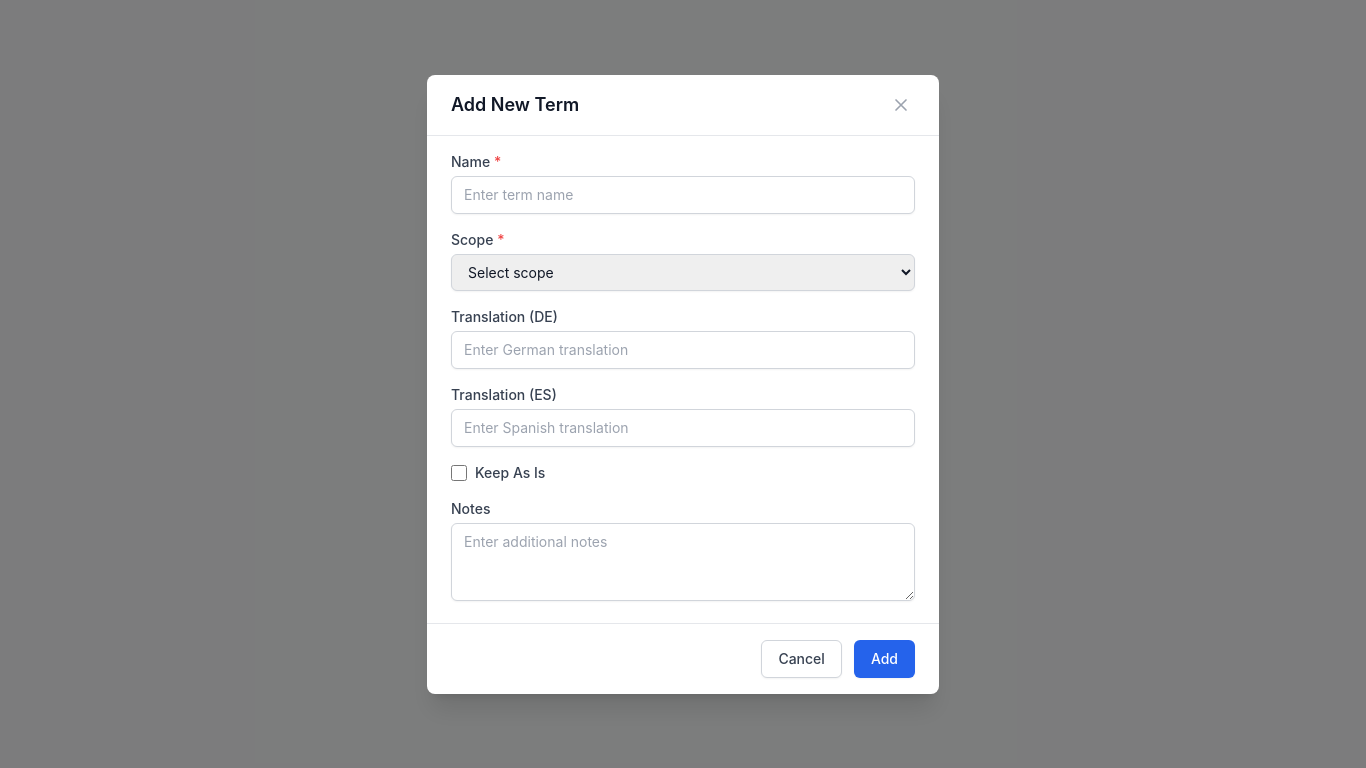
Test: TermModal › required field validation › shows multiple errors when multiple fields are invalid
Click the button "Add" at (884, 658), box [854,640,915,678]
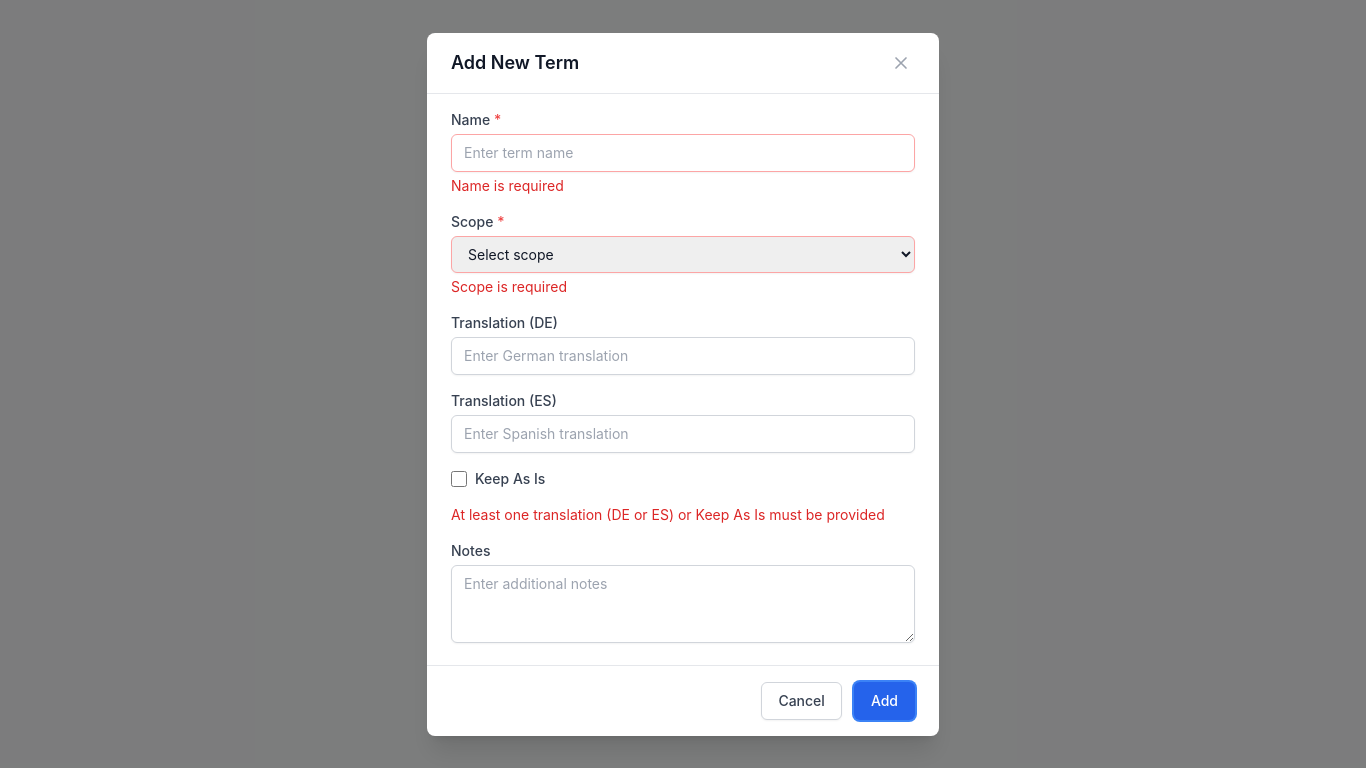
expect the text "Name is required" is shown: met, box [451,176,564,194]
expect the text "Scope is required" is shown: met, box [451,278,567,294]
